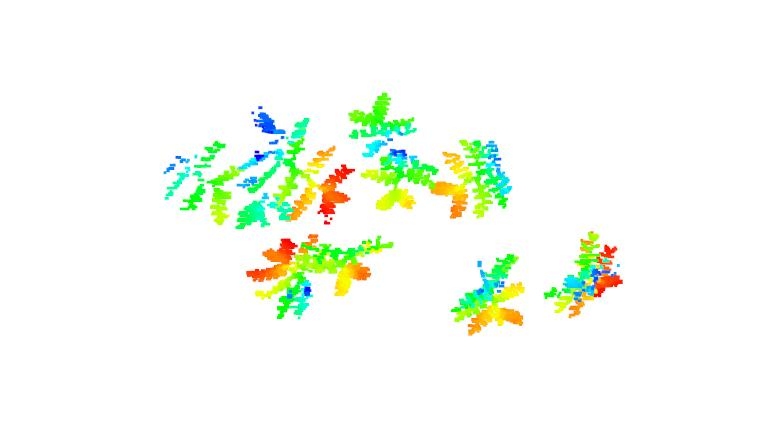chickpea: (249, 105, 353, 223), (160, 138, 290, 230), (348, 91, 439, 210), (542, 228, 625, 319), (429, 138, 514, 221), (247, 230, 322, 322), (451, 251, 526, 340), (308, 237, 399, 297)
